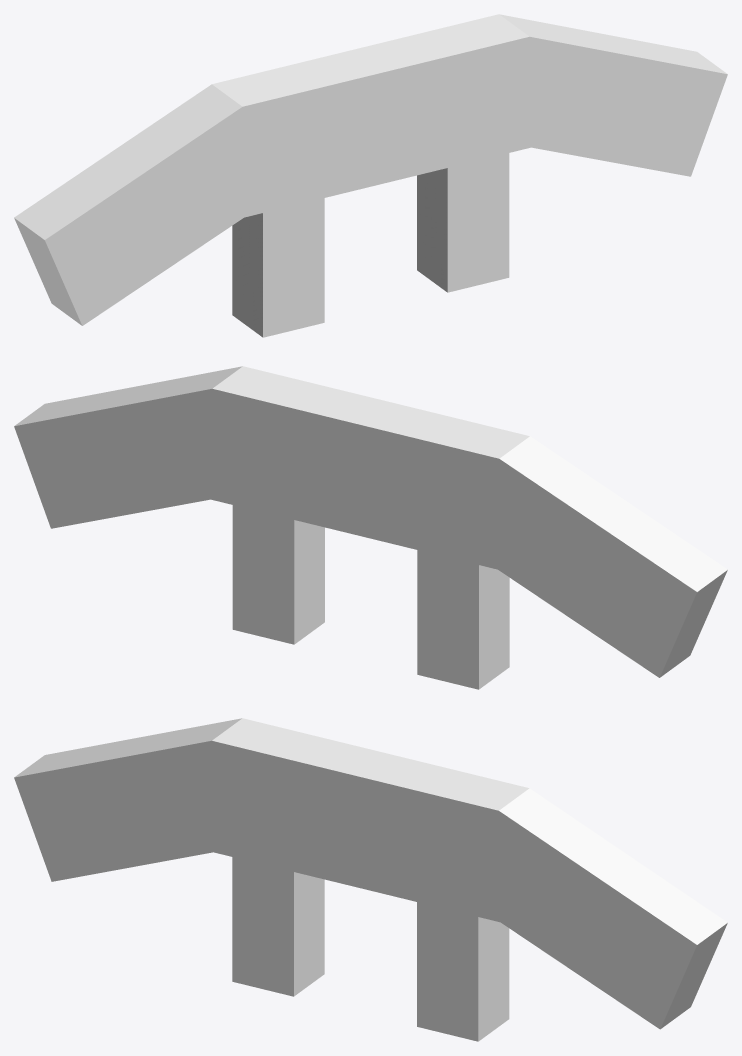
Rendered from core_glow.obj.
3 views of the same model, one above another, from view 1: azimuth 30°, elevation 25°; view 2: azimuth 150°, elevation 25°; view 3: azimuth 330°, elevation 25° (orthographic).
Visible parts, largest first — view 1: cube; view 2: cube; view 3: cube.
Part boxes in pixels (bbox=[...]): cube: bbox=[14, 14, 727, 337]; cube: bbox=[14, 366, 727, 689]; cube: bbox=[14, 718, 727, 1041].
Bounding box in the file's own units: 1.04 × 0.3438 × 0.0812.
